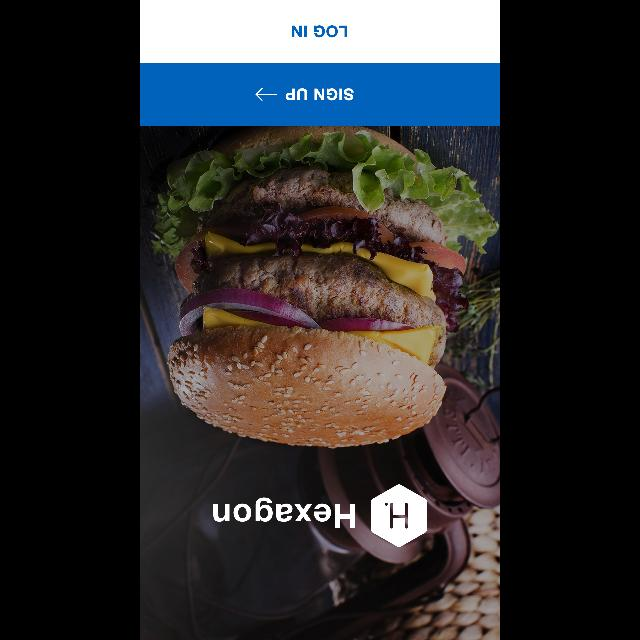image: (140, 126, 500, 640), (371, 484, 427, 548)
text: (213, 497, 355, 528)
textbutton: (140, 62, 500, 126), (140, 1, 500, 64)
